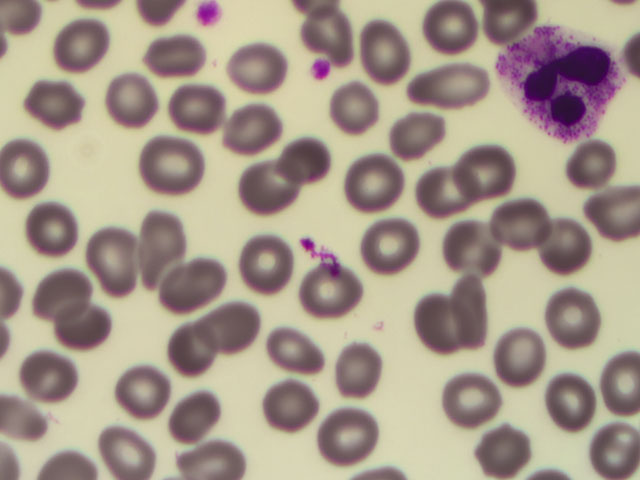Platelets: (190, 1, 223, 23), (312, 56, 337, 85)
RBC: (51, 18, 108, 73), (31, 76, 88, 131), (4, 141, 61, 196), (24, 201, 81, 256), (41, 259, 98, 314), (43, 295, 100, 350), (26, 345, 83, 400), (6, 381, 63, 436), (98, 425, 155, 480), (122, 368, 179, 423), (150, 329, 207, 384), (203, 299, 260, 354), (156, 253, 213, 308), (135, 211, 192, 266), (92, 226, 149, 281), (138, 136, 195, 191), (110, 68, 167, 123), (146, 29, 203, 84), (175, 86, 232, 141), (223, 41, 280, 96), (221, 103, 278, 158), (232, 161, 289, 216), (272, 130, 329, 185), (235, 235, 292, 290), (302, 268, 359, 323), (272, 323, 329, 378), (270, 377, 327, 432), (333, 345, 390, 400), (318, 410, 375, 465), (184, 425, 241, 480), (171, 385, 228, 440), (442, 371, 499, 426), (487, 334, 544, 389), (404, 292, 461, 347), (439, 276, 496, 331), (442, 225, 499, 280), (368, 221, 425, 276), (342, 159, 399, 214), (418, 168, 475, 223), (460, 142, 517, 197), (392, 110, 449, 165), (412, 65, 469, 120), (355, 21, 412, 76), (325, 86, 382, 141), (568, 140, 625, 195), (497, 192, 554, 247), (544, 215, 601, 270), (583, 187, 640, 242), (550, 286, 607, 341), (542, 381, 599, 436), (583, 425, 640, 480), (475, 425, 532, 480), (420, 1, 477, 55), (305, 1, 362, 55)
WBC: (496, 21, 622, 146)
